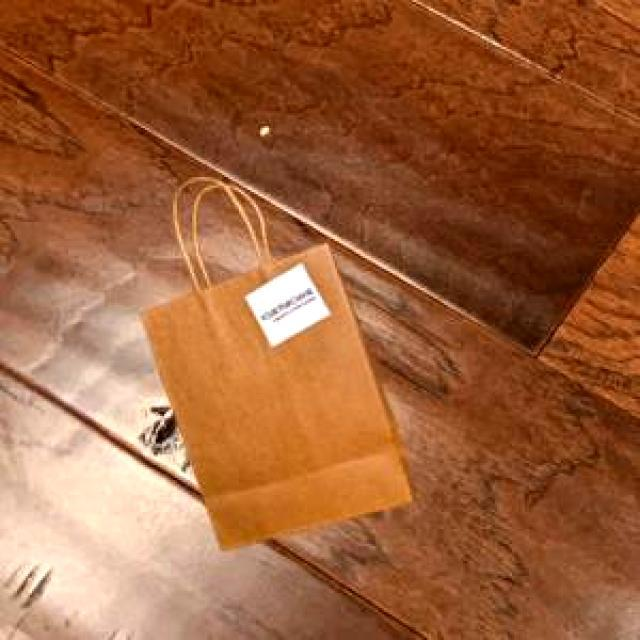Paper_Bag: (140, 188, 410, 548)
